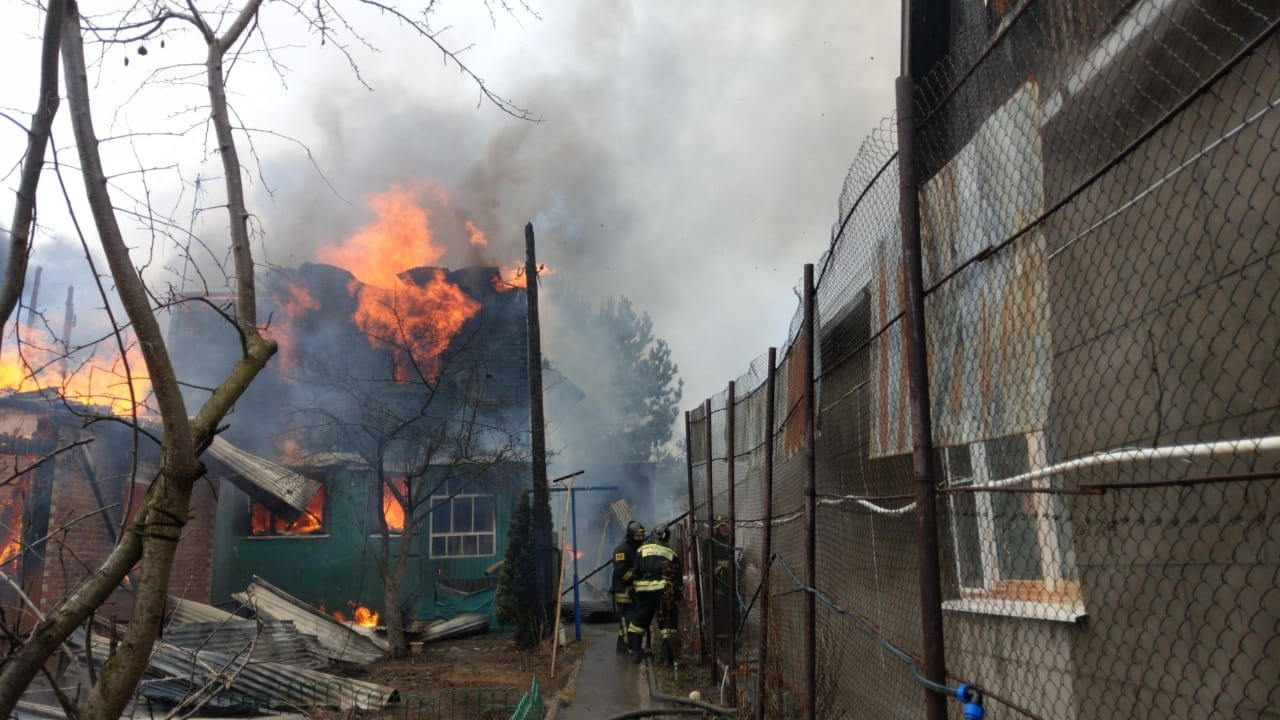fire: (99, 203, 532, 569)
